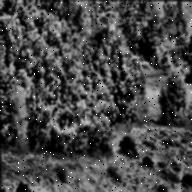boar: (122, 128, 140, 155), (143, 151, 153, 168)
